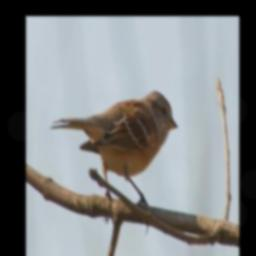Sparrow: (48, 88, 179, 234)
